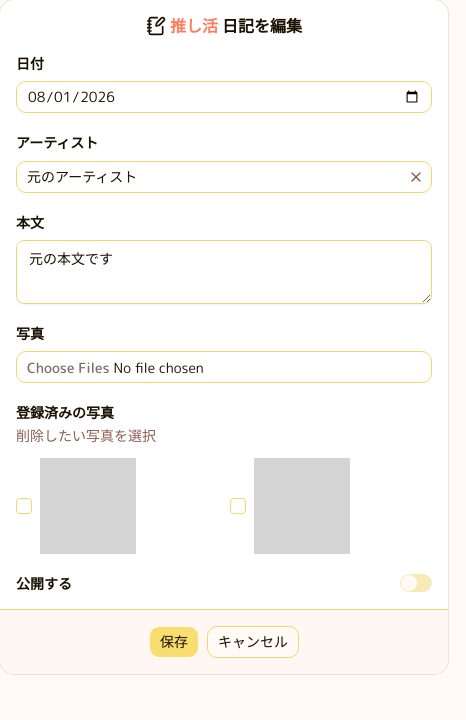
Test: DiaryEditForm › 通信エラー時は汎用エラーメッセージを表示する
What coordinates should you click on to do the following:
click the button "保存"
I would click on:
 (174, 642)
Its box is [149,626,199,658].
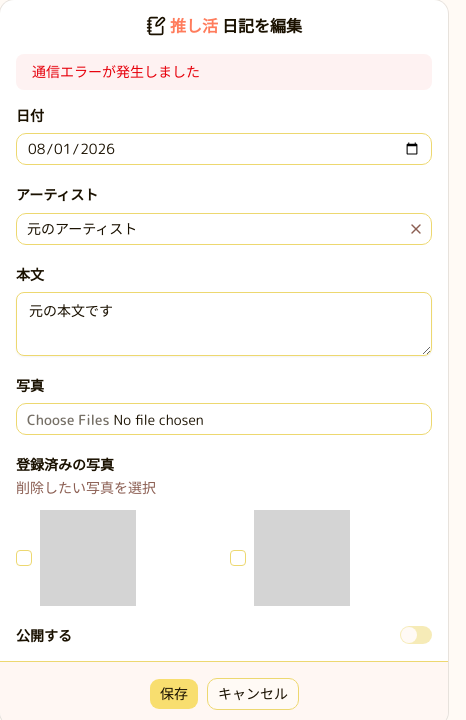
Now the text "通信エラーが発生しました" is shown, box [16,54,432,90]
